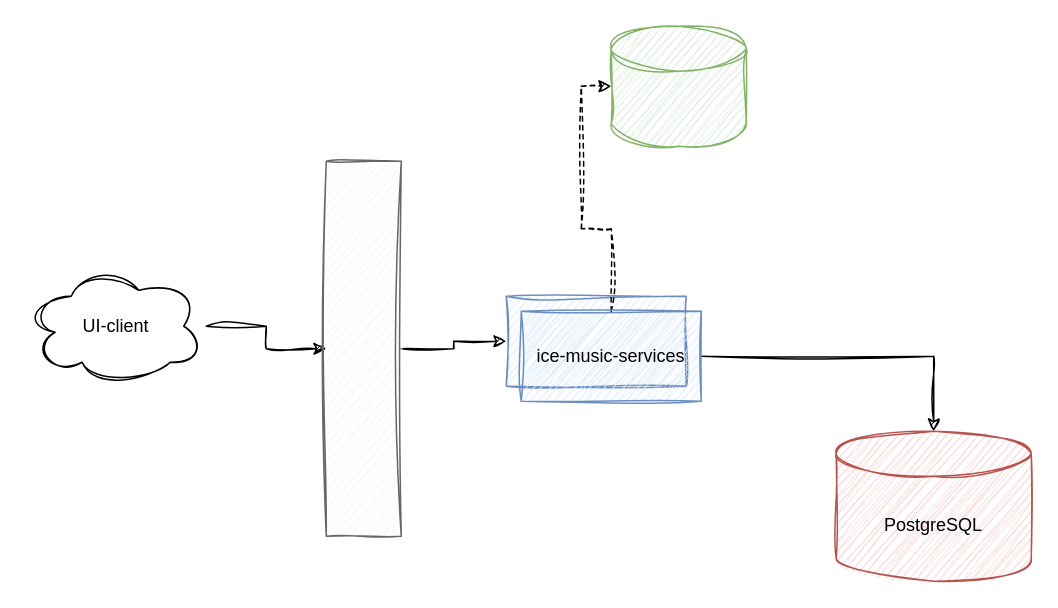
This 1058x608 diagram has some shape labels left out. Here are the shapes that lost their labels. From the top down, the centre of each, then its label:
At (678,85): "In-memory cache".
At (363,348): "LB".
